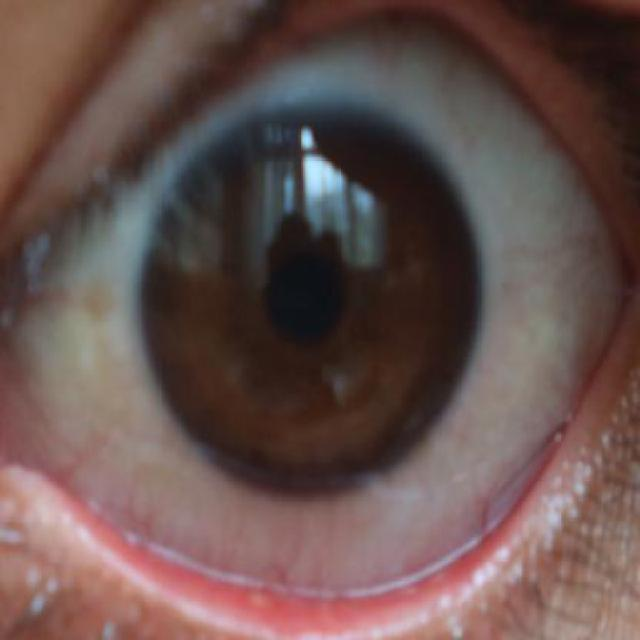Normal: (137, 104, 485, 497)
